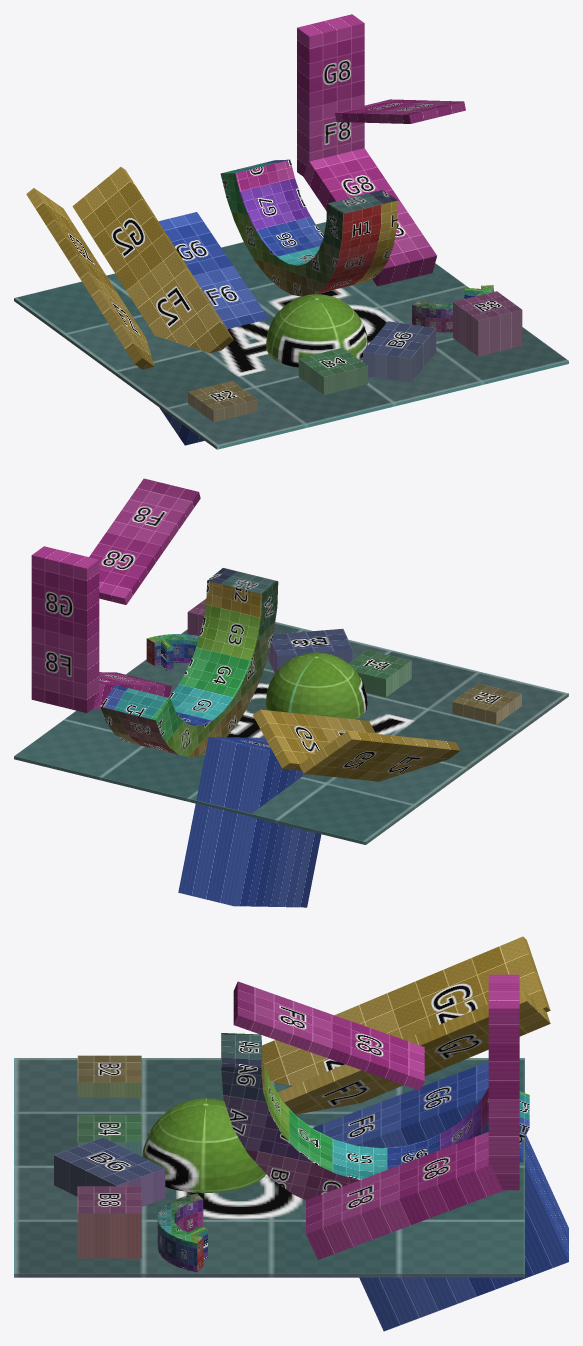
Rendered from basic-colliders.glb.
3 views of the same model, one above another, from view 1: azimuth 30°, elevation 25°; view 2: azimuth 150°, elevation 25°; view 3: azimuth 270°, elevation 25° (orthographic). The views are drawn at different scales.
Visible parts, largest first — view 1: ground.001, arc.001, friction_2.001, friction_8.002, friction_8, friction_6, Sphere, friction_2, bounce_8, bounce_6, bounce_4, friction_8.001 (+2 smaller); view 2: ground.001, friction_6, arc.001, friction_8.002, friction_8.001, friction_2, Sphere, friction_2.001, bounce_6, bounce_4, bounce_2, arc.002 (+1 smaller); view 3: ground.001, friction_6, arc.001, friction_8, friction_2, friction_8.001, Sphere, friction_2.001, friction_8.002, bounce_8, bounce_6, arc.002 (+2 smaller).
Part boxes in pixels (x1=…): ground.001: x1=14, y1=222, x2=568, y2=449; arc.001: x1=220, y1=159, x2=398, y2=296; friction_2.001: x1=72, y1=167, x2=233, y2=353; friction_8.002: x1=297, y1=14, x2=364, y2=176; friction_8: x1=303, y1=148, x2=436, y2=286; friction_6: x1=158, y1=212, x2=268, y2=445; Sphere: x1=266, y1=294, x2=367, y2=367; friction_2: x1=26, y1=188, x2=154, y2=369; bounce_8: x1=453, y1=291, x2=522, y2=356; bounce_6: x1=363, y1=321, x2=436, y2=382; bounce_4: x1=298, y1=348, x2=367, y2=394; friction_8.001: x1=335, y1=99, x2=465, y2=123; ground.001: x1=14, y1=622, x2=568, y2=844; friction_6: x1=178, y1=737, x2=321, y2=907; arc.001: x1=100, y1=568, x2=278, y2=757; friction_8.002: x1=31, y1=546, x2=99, y2=712; friction_8.001: x1=89, y1=478, x2=200, y2=604; friction_2: x1=299, y1=731, x2=460, y2=781; Sphere: x1=265, y1=652, x2=367, y2=719; friction_2.001: x1=253, y1=709, x2=375, y2=770; bounce_6: x1=268, y1=628, x2=352, y2=673; bounce_4: x1=349, y1=650, x2=411, y2=697; bounce_2: x1=452, y1=683, x2=521, y2=724; arc.002: x1=146, y1=634, x2=199, y2=670; ground.001: x1=14, y1=1058, x2=524, y2=1277; friction_6: x1=312, y1=1062, x2=568, y2=1331; arc.001: x1=221, y1=1033, x2=529, y2=1200; friction_8: x1=306, y1=1132, x2=502, y2=1259; friction_2: x1=262, y1=936, x2=550, y2=1085; friction_8.001: x1=233, y1=981, x2=424, y2=1090; Sphere: x1=142, y1=1098, x2=265, y2=1192; friction_2.001: x1=277, y1=990, x2=550, y2=1114; friction_8.002: x1=488, y1=974, x2=519, y2=1190; bounce_8: x1=77, y1=1186, x2=141, y2=1258; bounce_6: x1=54, y1=1137, x2=165, y2=1206; arc.002: x1=157, y1=1193, x2=207, y2=1272.
Bounding box in the file's own units: 15.93 × 14.62 × 17.3.
Materials: 5 (5 with a texture image).
